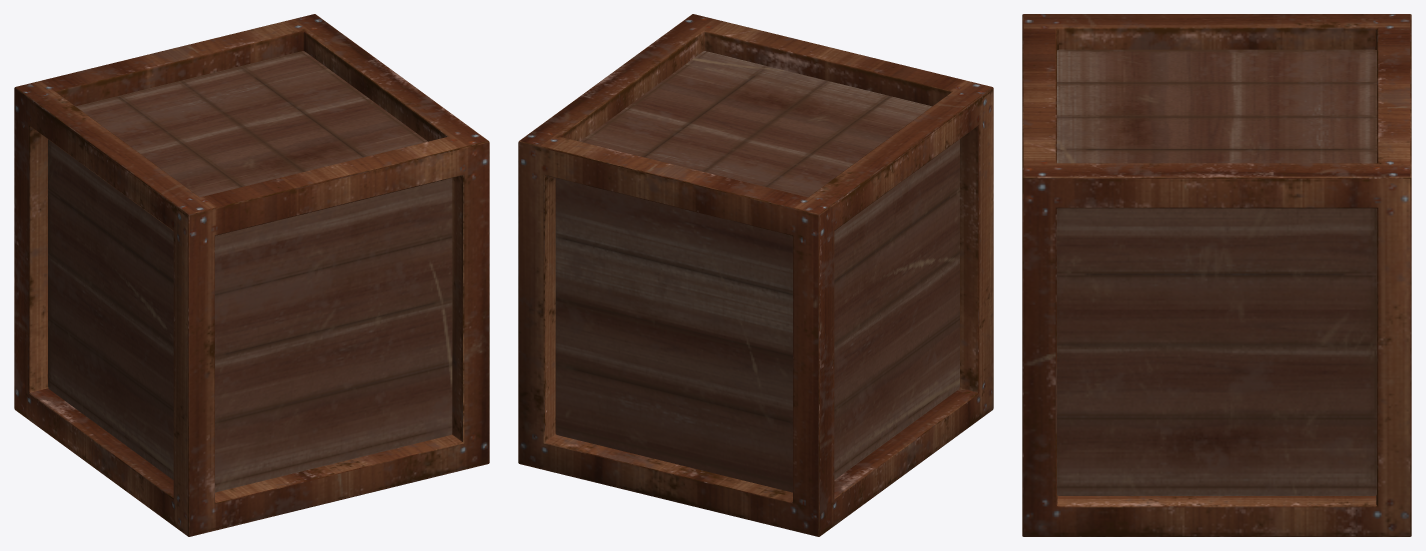
File: Crate.FBX
The picture shows the model from 3 angles, left to right: view 1: azimuth 30°, elevation 25°; view 2: azimuth 150°, elevation 25°; view 3: azimuth 270°, elevation 25°; orthographic projection. The views are drawn at different scales.
Visible parts, largest first — view 1: Crate_Inner_lp, Crate_Outer_lp; view 2: Crate_Inner_lp, Crate_Outer_lp; view 3: Crate_Inner_lp, Crate_Outer_lp.
Boxes of the visible parts, x1=… form: Crate_Inner_lp: x1=48, y1=51, x2=452, y2=492; Crate_Outer_lp: x1=14, y1=14, x2=489, y2=536; Crate_Inner_lp: x1=555, y1=51, x2=959, y2=492; Crate_Outer_lp: x1=518, y1=14, x2=993, y2=536; Crate_Inner_lp: x1=1057, y1=49, x2=1376, y2=495; Crate_Outer_lp: x1=1022, y1=14, x2=1411, y2=536.
Bounding box in the file's own units: 68.4 × 70.06 × 68.68.
